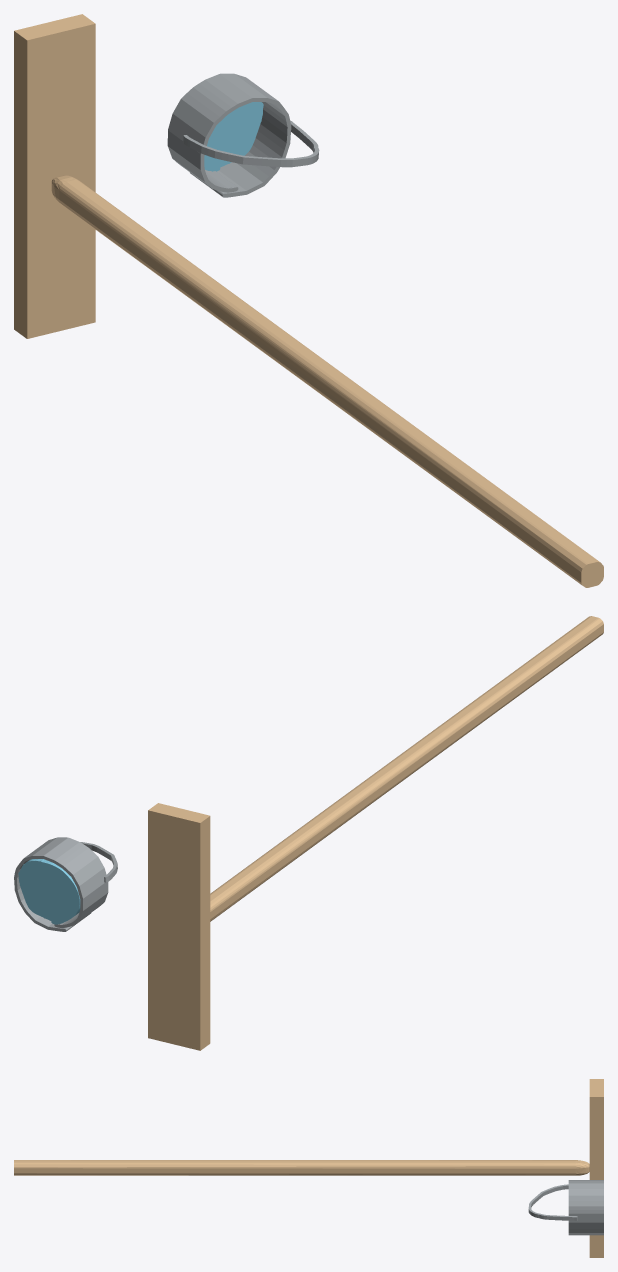
Rendered from tinker.obj.
The picture shows the model from 3 angles, top to bottom: view 1: azimuth 30°, elevation 25°; view 2: azimuth 150°, elevation 25°; view 3: azimuth 270°, elevation 25°; orthographic projection. The views are drawn at different scales.
Parts seen in each view (by area): view 1: group_0_14860437, group_0_10988977, group_0_8768998; view 2: group_0_14860437, group_0_10988977, group_0_8768998; view 3: group_0_14860437, group_0_10988977.
Part boxes in pixels (x1,y1,x2,y2): group_0_14860437: (14,14,603,587); group_0_10988977: (167,73,319,197); group_0_8768998: (204,102,263,171); group_0_14860437: (148,616,603,1050); group_0_10988977: (14,837,117,931); group_0_8768998: (18,859,80,924); group_0_14860437: (14,1079,603,1257); group_0_10988977: (528,1180,603,1235).
Bounding box in the file's own units: 133 × 150 × 499.
